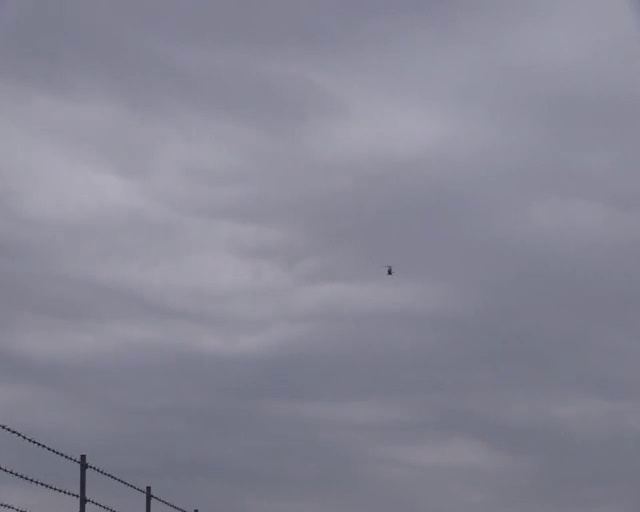HELICOPTER: (385, 265, 393, 276)
